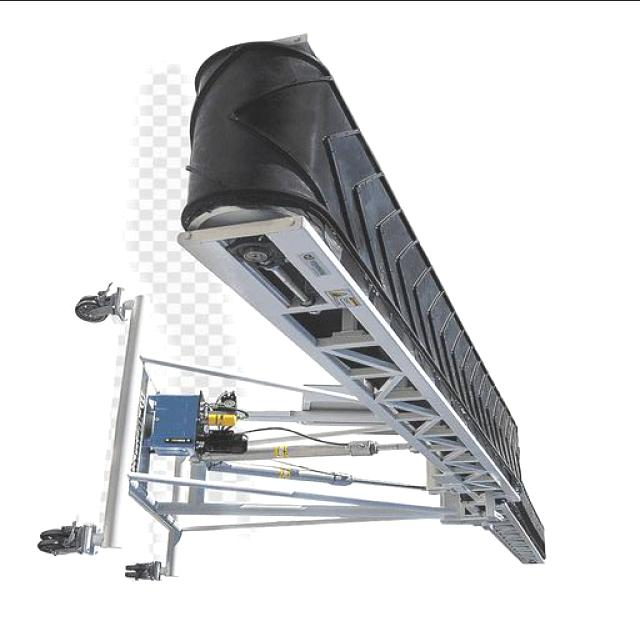conveyor: (183, 41, 547, 558)
